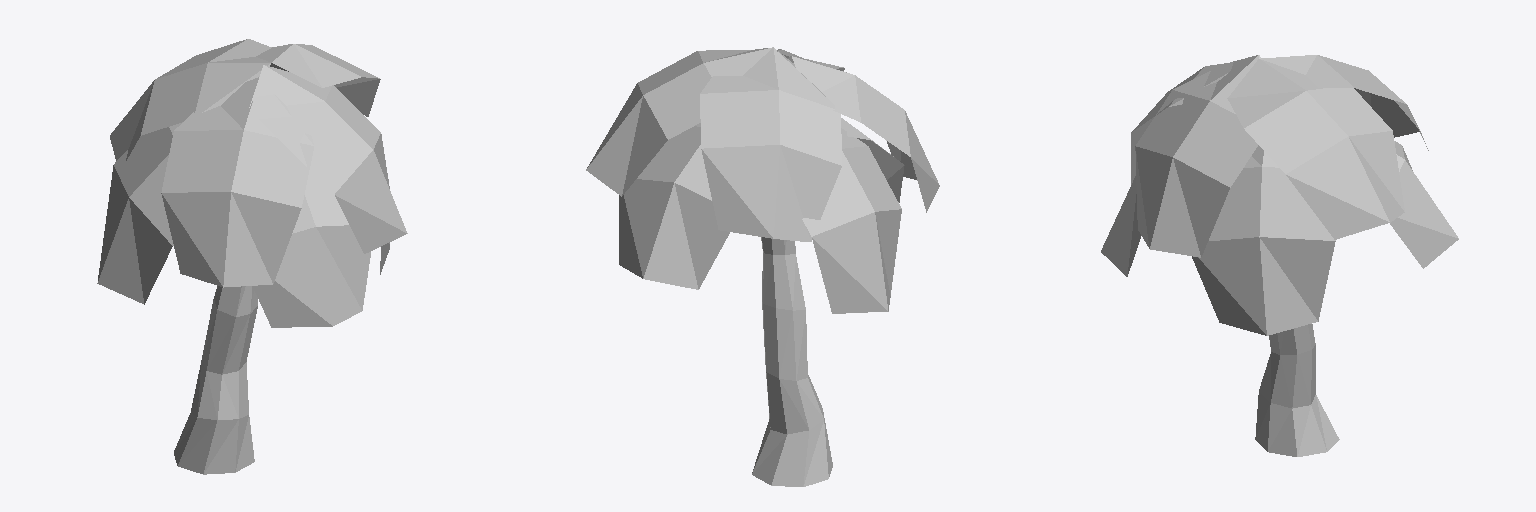
The model's file is Palm_2.obj.
3 views of the same model, side by side, from view 1: azimuth 30°, elevation 25°; view 2: azimuth 150°, elevation 25°; view 3: azimuth 270°, elevation 25° (orthographic).
Bounding box in the file's own units: 8.16 × 11.16 × 9.08.